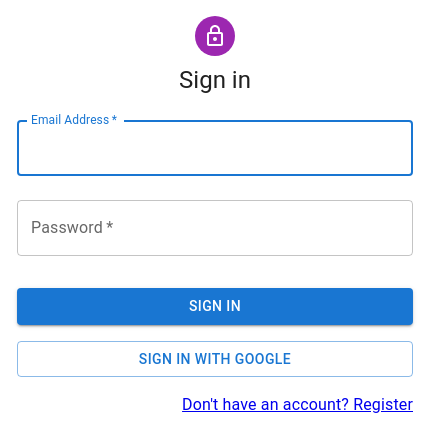
Test: Login Component › shows loading state while signing in
What coordinates should you click on to do the following:
click the button "Sign In"
I would click on:
 (215, 306)
Its box is [17,288,413,324].
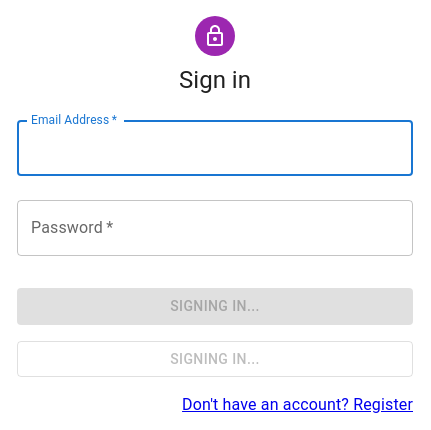
Check: the button named "sign in" is disabled, box [17,288,413,324]
